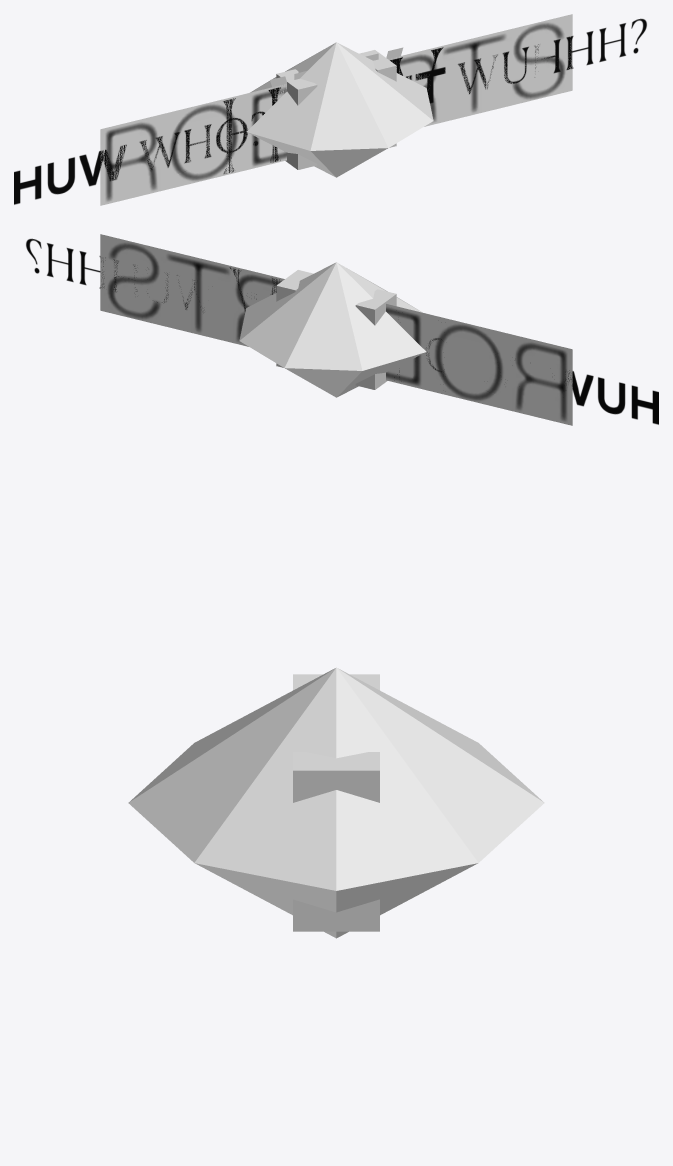
File: hrdev.glb
The picture shows the model from 3 angles, top to bottom: view 1: azimuth 30°, elevation 25°; view 2: azimuth 150°, elevation 25°; view 3: azimuth 270°, elevation 25°; orthographic projection. The views are drawn at different scales.
Parts seen in each view (by area): view 1: hrRobertsSoft, diamond3d, huwWhoAboutWuhhh, letterH, hrHuw, capW_2; view 2: hrRobertsSoft, diamond3d, huwWhoAboutWuhhh, letterH; view 3: diamond3d, letterH.
Part boxes in pixels (x1,y1,x2,y2): hrRobertsSoft: [100, 14, 572, 205]; diamond3d: [246, 42, 433, 177]; huwWhoAboutWuhhh: [14, 18, 646, 204]; letterH: [276, 50, 396, 169]; hrHuw: [223, 47, 443, 173]; capW_2: [270, 47, 403, 100]; hrRobertsSoft: [100, 234, 572, 425]; diamond3d: [239, 262, 426, 397]; huwWhoAboutWuhhh: [26, 238, 658, 424]; letterH: [276, 270, 396, 389]; diamond3d: [128, 667, 544, 938]; letterH: [293, 674, 379, 931].
Bounding box in the file's own units: 8.37 × 1.68 × 2.34.
Materials: 5 (4 with a texture image).
